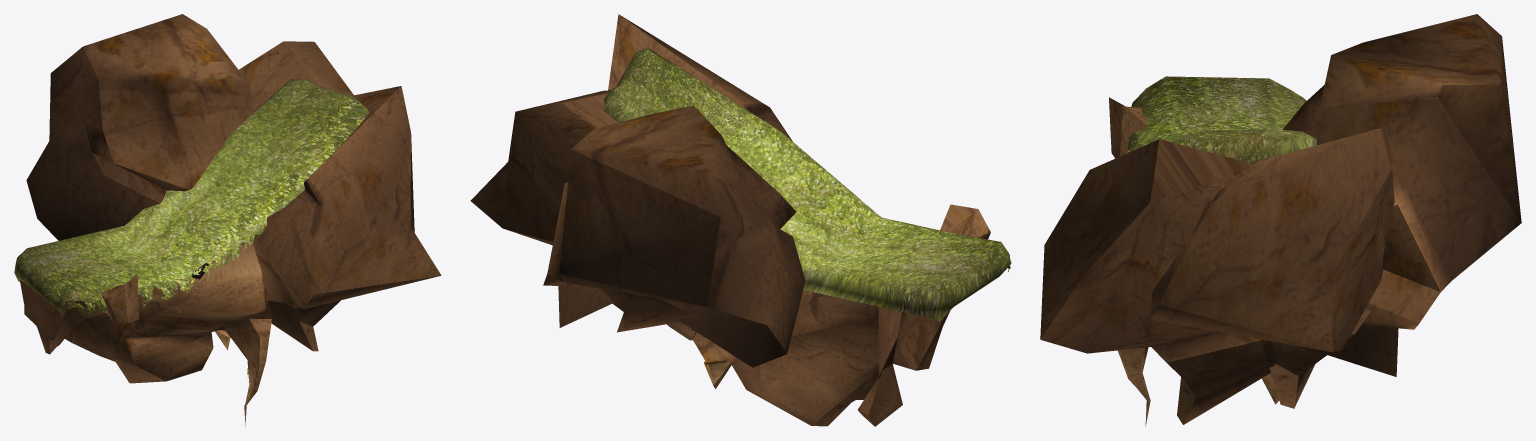
File: Rocher_Monte.FBX
The picture shows the model from 3 angles, left to right: view 1: azimuth 30°, elevation 25°; view 2: azimuth 150°, elevation 25°; view 3: azimuth 270°, elevation 25°; orthographic projection. The views are drawn at different scales.
Parts seen in each view (by area): view 1: Bloc_Monte; view 2: Bloc_Monte; view 3: Bloc_Monte.
Boxes of the visible parts, box(x1,y1,x2,y2) form: Bloc_Monte: box(14, 14, 441, 426); Bloc_Monte: box(470, 14, 1011, 426); Bloc_Monte: box(1040, 14, 1521, 426).
Size of the model in its own units: 44.79 by 30.99 by 34.56.
